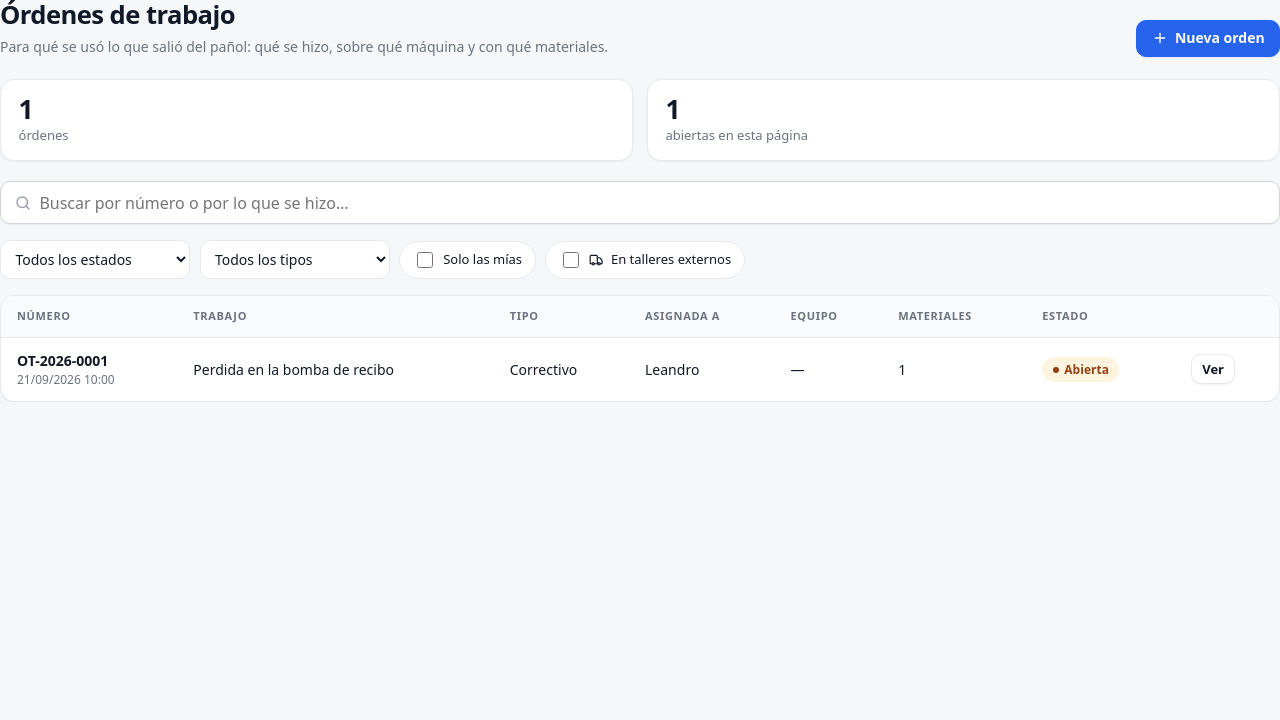
it: el trabajo es de quien lo tiene asignado › REGRESION: un trabajo de otro se ve pero no se puede cargar ni cerrar
Click the button "Ver" at (1213, 369), box [1191,354,1235,384]
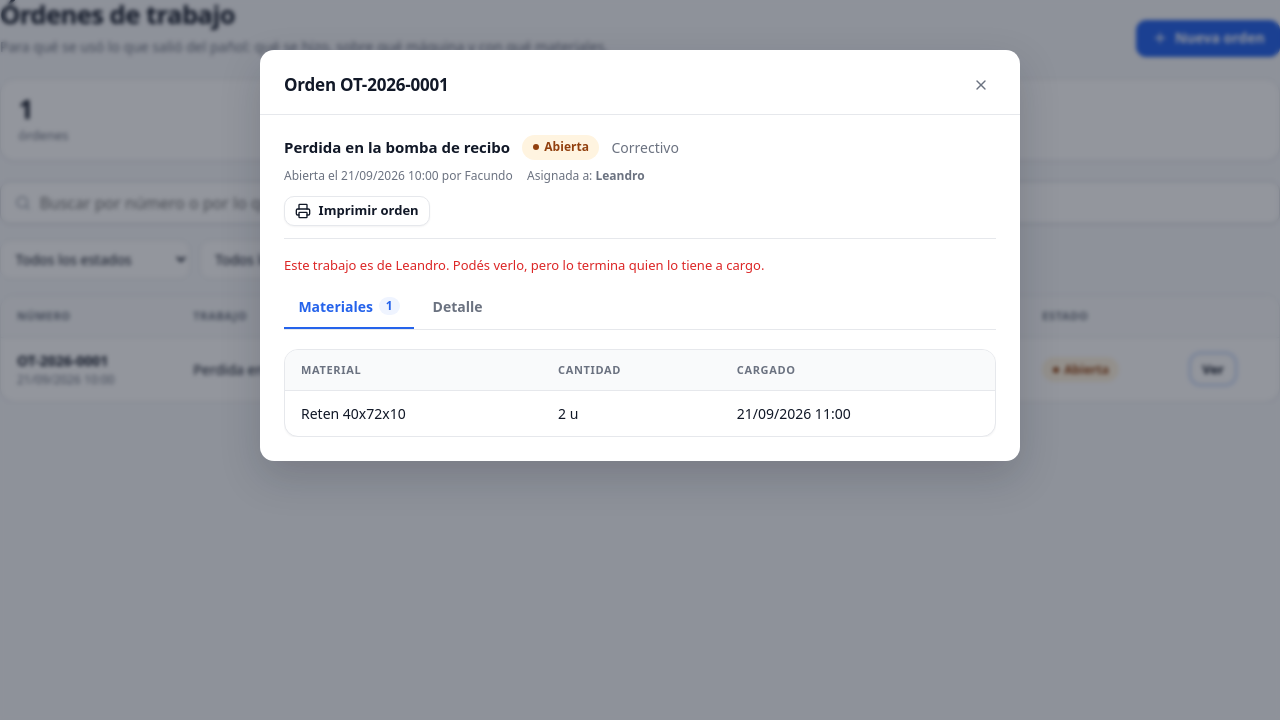
Check: the heading "Orden OT-2026-0001" is shown, box [284,72,449,98]
Check: the text "es de Leandro" is shown, box [284,256,764,274]
Check: the text "Reten 40x72x10" is shown, box [285,391,542,436]
